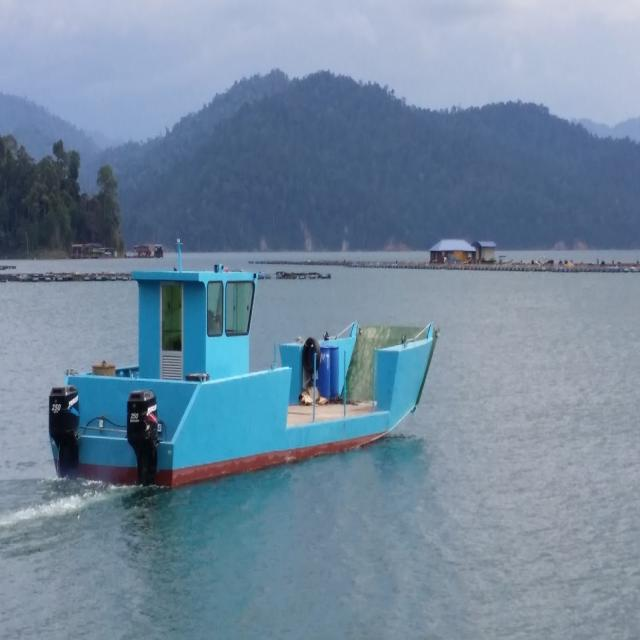houseboat: (48, 253, 444, 470)
